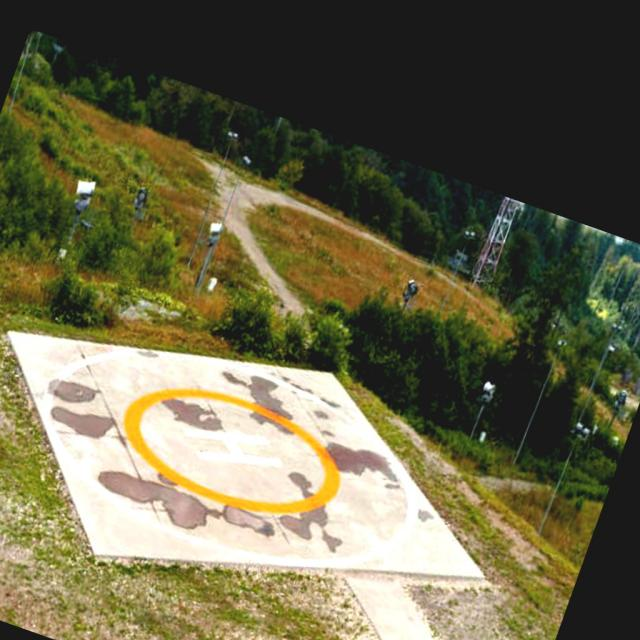helipad: (118, 382, 345, 518)
